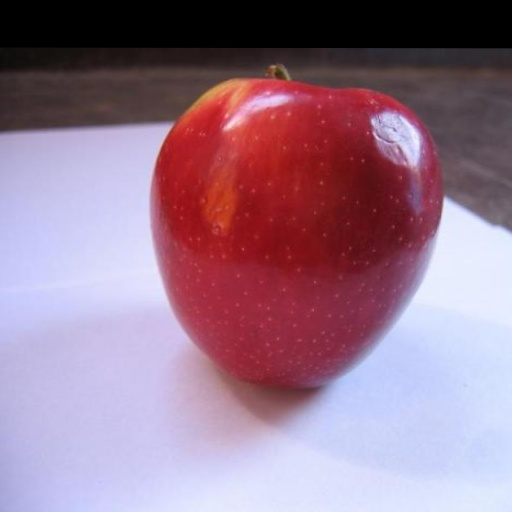fruit: (151, 79, 440, 387)
